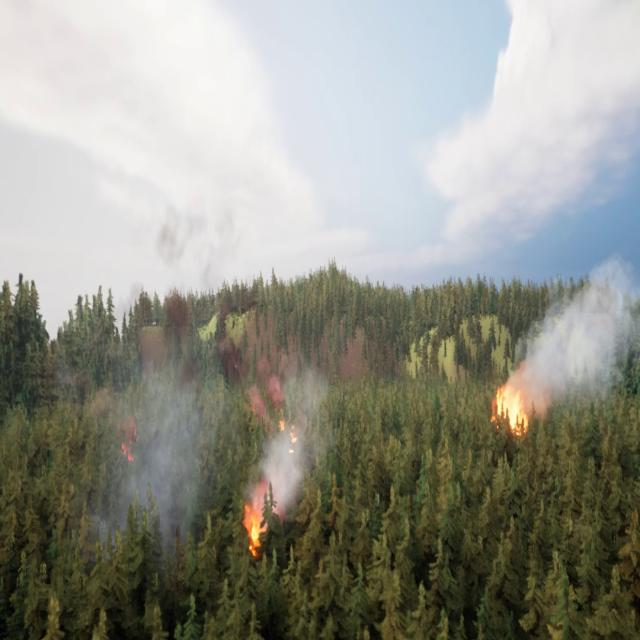fire: (492, 378, 536, 440), (241, 493, 274, 558)
smoke: (93, 198, 240, 565), (511, 260, 640, 412), (256, 371, 326, 516)
